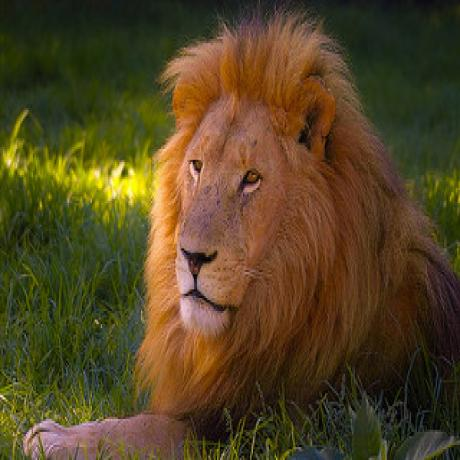Lion: (127, 3, 459, 433)
